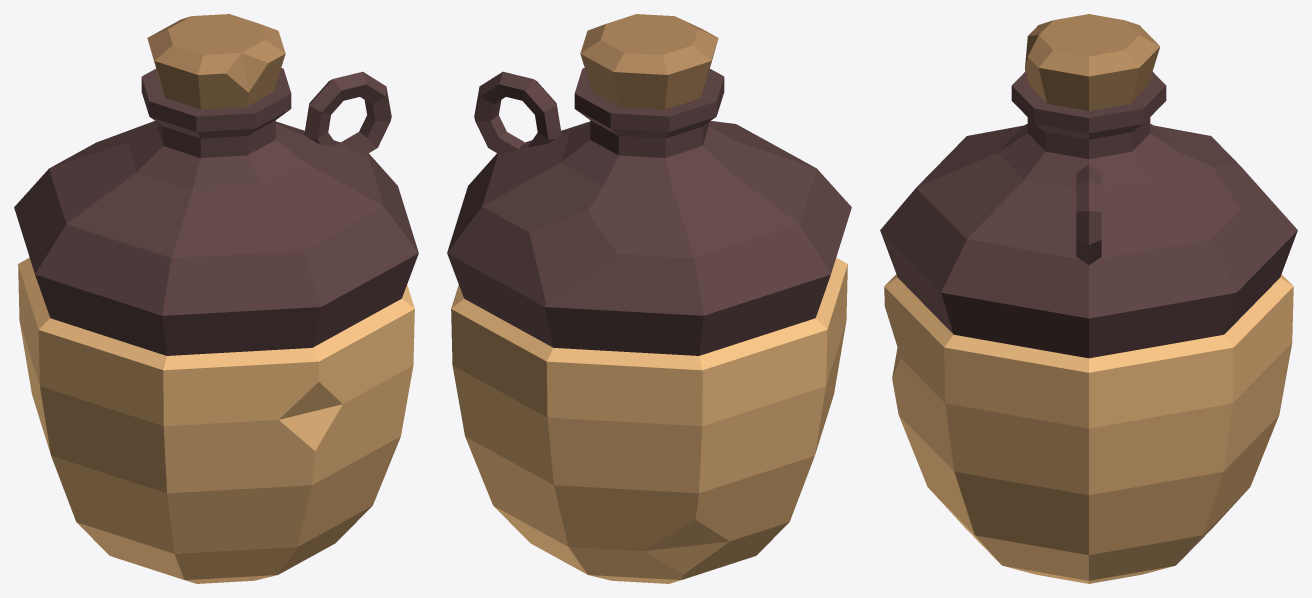
File: SFHW_Jar_014.fbx
The picture shows the model from 3 angles, left to right: view 1: azimuth 30°, elevation 25°; view 2: azimuth 150°, elevation 25°; view 3: azimuth 270°, elevation 25°; orthographic projection.
Parts seen in each view (by area): view 1: SFHW_Jar_014; view 2: SFHW_Jar_014; view 3: SFHW_Jar_014.
Boxes of the visible parts, <box> form: SFHW_Jar_014: <box>14,14,418,583</box>; SFHW_Jar_014: <box>447,14,851,583</box>; SFHW_Jar_014: <box>880,14,1297,583</box>.
Size of the model in its own units: 26.71 by 36.46 by 26.71.
